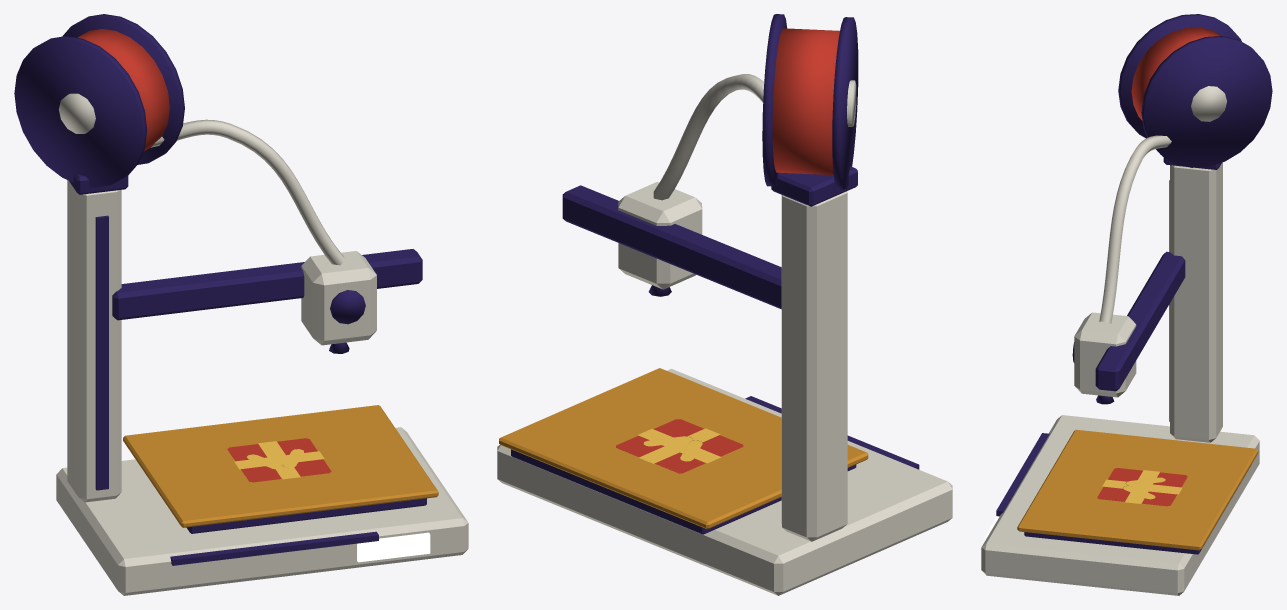
The model's file is printer.glb.
The picture shows the model from 3 angles, left to right: view 1: azimuth 30°, elevation 25°; view 2: azimuth 150°, elevation 25°; view 3: azimuth 270°, elevation 25°; orthographic projection. The views are drawn at different scales.
Visible parts, largest first — view 1: base, plate, flange, column, xrail, toolhead, slot, filament, tube, flange.001, lip, carrier (+6 smaller); view 2: plate, base, column, xrail, filament, toolhead, flange, tube, giftbox, flange.001, cap, carrier (+3 smaller); view 3: plate, base, column, flange.001, xrail, toolhead, tube, flange, filament, giftbox, hub, carrier (+3 smaller).
Part boxes in pixels (x1=…): base: x1=56, y1=427, x2=468, y2=595; plate: x1=123, y1=405, x2=438, y2=527; flange: x1=14, y1=36, x2=147, y2=187; column: x1=67, y1=180, x2=121, y2=502; xrail: x1=112, y1=249, x2=422, y2=320; toolhead: x1=301, y1=251, x2=376, y2=345; slot: x1=95, y1=215, x2=108, y2=490; filament: x1=77, y1=29, x2=169, y2=151; tube: x1=151, y1=119, x2=344, y2=265; flange.001: x1=62, y1=14, x2=184, y2=164; lip: x1=170, y1=531, x2=378, y2=565; carrier: x1=186, y1=498, x2=426, y2=533; plate: x1=499, y1=368, x2=868, y2=529; base: x1=497, y1=369, x2=952, y2=595; column: x1=781, y1=191, x2=847, y2=541; xrail: x1=562, y1=185, x2=781, y2=309; filament: x1=772, y1=28, x2=839, y2=175; toolhead: x1=618, y1=182, x2=702, y2=289; flange: x1=832, y1=17, x2=858, y2=189; tube: x1=653, y1=74, x2=764, y2=200; giftbox: x1=616, y1=419, x2=743, y2=473; flange.001: x1=762, y1=14, x2=786, y2=186; cap: x1=771, y1=166, x2=857, y2=206; carrier: x1=511, y1=449, x2=856, y2=534; plate: x1=1017, y1=429, x2=1258, y2=550; base: x1=981, y1=415, x2=1259, y2=595; column: x1=1170, y1=162, x2=1222, y2=442; flange.001: x1=1141, y1=36, x2=1272, y2=167; xrail: x1=1095, y1=251, x2=1185, y2=391; toolhead: x1=1074, y1=312, x2=1136, y2=397; tube: x1=1099, y1=135, x2=1171, y2=323; flange: x1=1118, y1=14, x2=1241, y2=138; filament: x1=1131, y1=27, x2=1221, y2=120; giftbox: x1=1097, y1=468, x2=1187, y2=506; hub: x1=1191, y1=86, x2=1226, y2=121; carrier: x1=1024, y1=466, x2=1250, y2=554.
Size of the model in its own units: 3.81 by 5.14 by 3.06.
